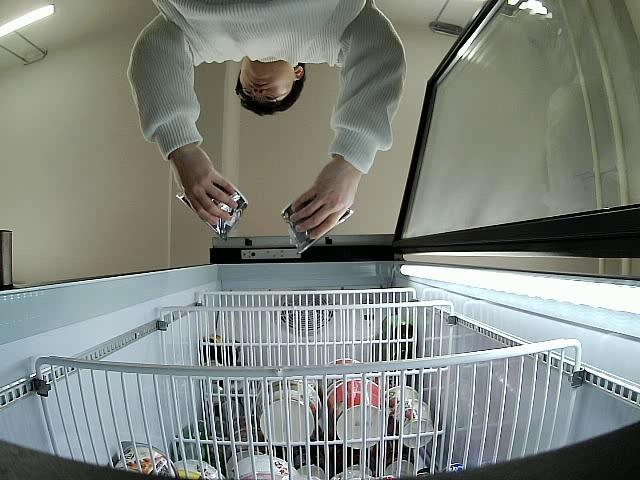07_buldak_L: (175, 174, 246, 240), (282, 190, 352, 255)
